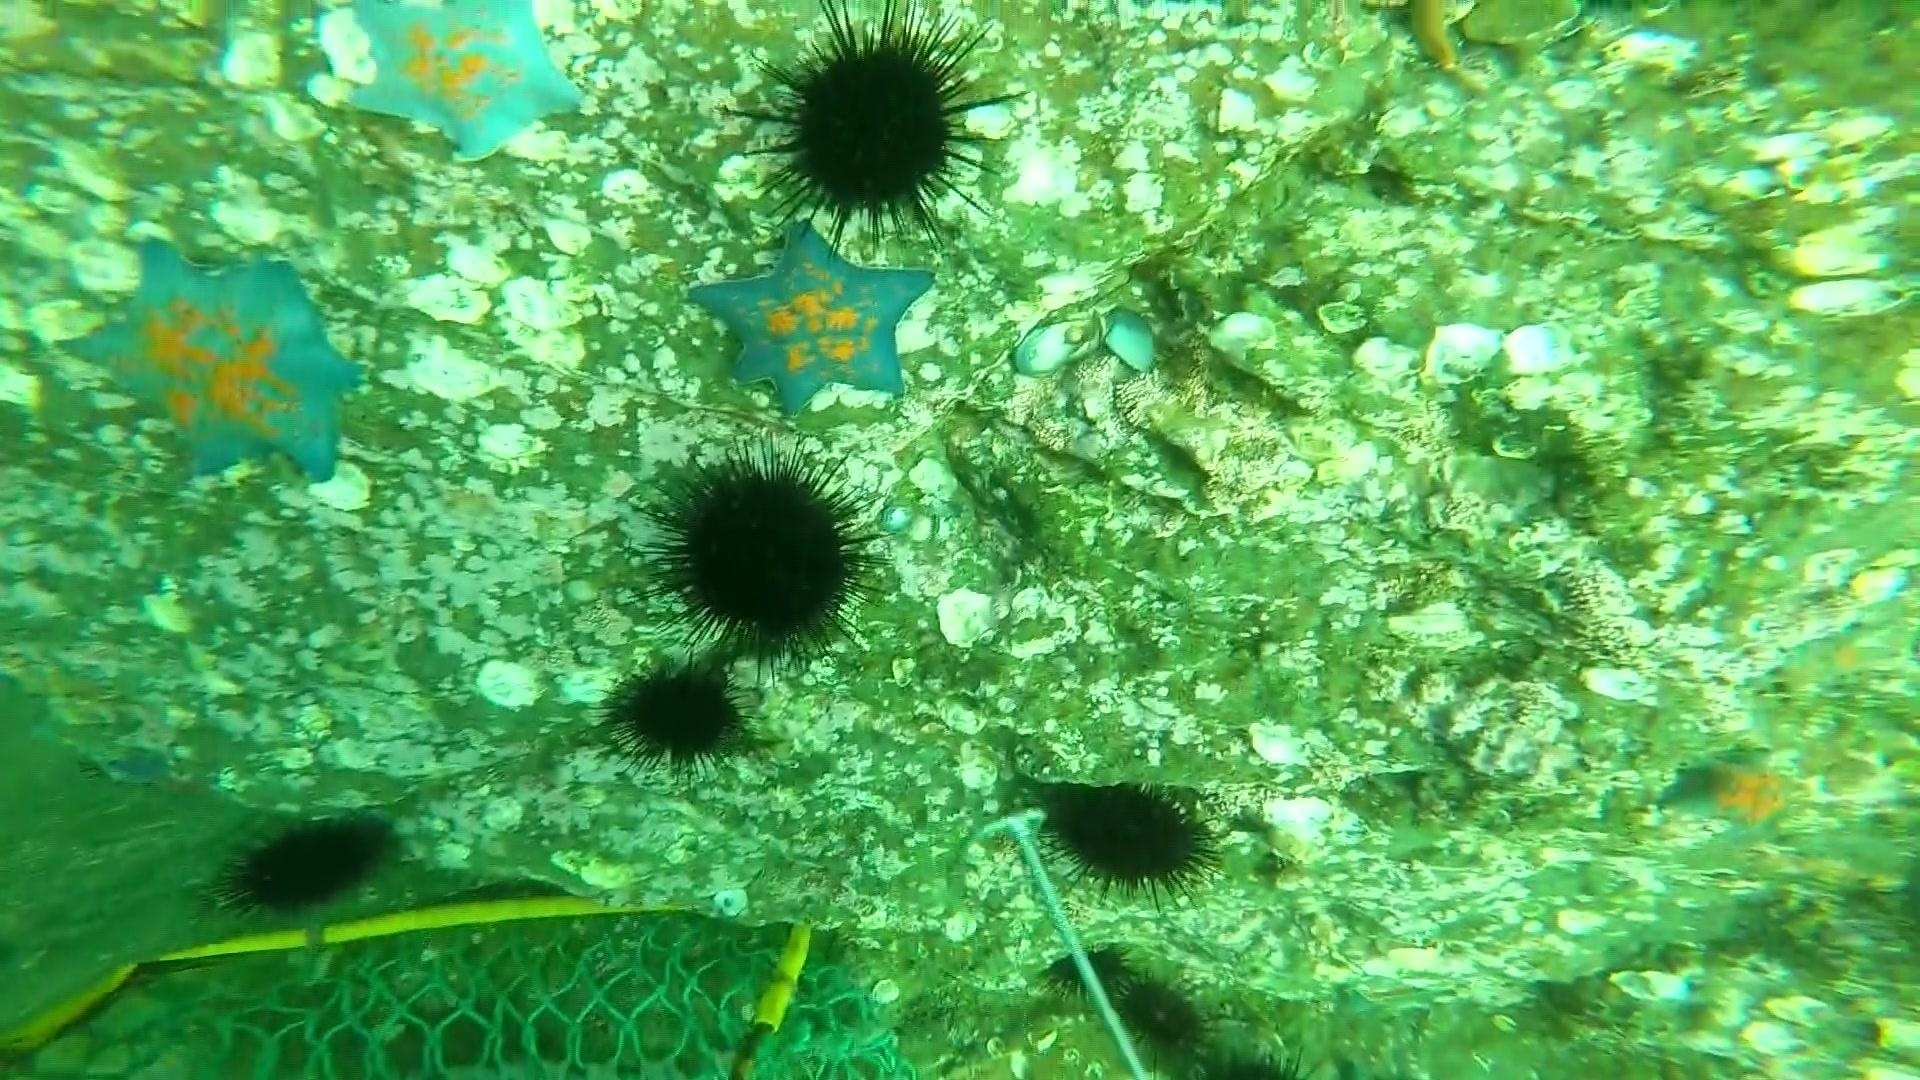echinus: (748, 8, 1009, 243), (636, 443, 884, 673), (1034, 774, 1226, 906), (1039, 938, 1221, 1069), (216, 807, 400, 920), (597, 654, 757, 774), (1036, 938, 1145, 1015)
starfish: (58, 235, 368, 487), (684, 219, 942, 417), (336, 1, 588, 165), (1659, 746, 1815, 847), (1389, 1, 1507, 95), (1807, 622, 1887, 684)
